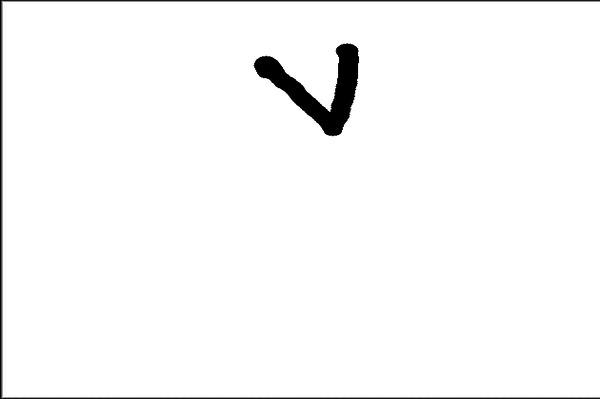V: (245, 36, 374, 145)
